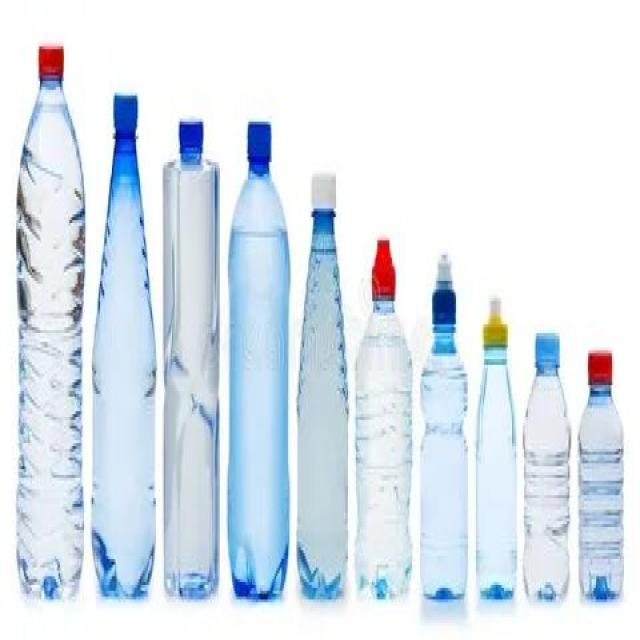blue: (16, 74, 84, 599), (91, 128, 157, 601), (420, 324, 468, 601), (475, 348, 518, 599), (580, 380, 623, 603)
